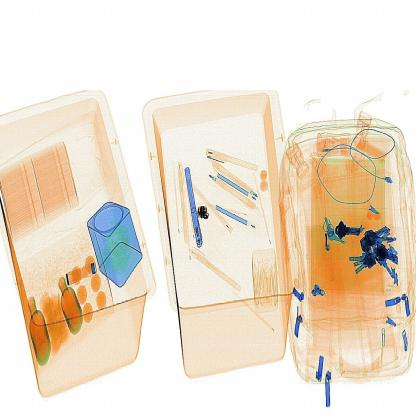scissors: (194, 201, 220, 234)
